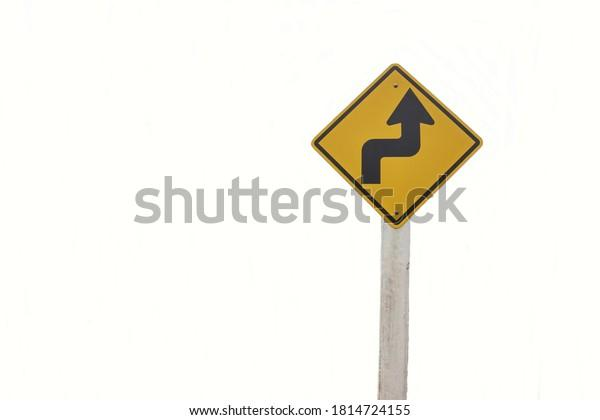Right Reverse Bend: (309, 45, 494, 219)
